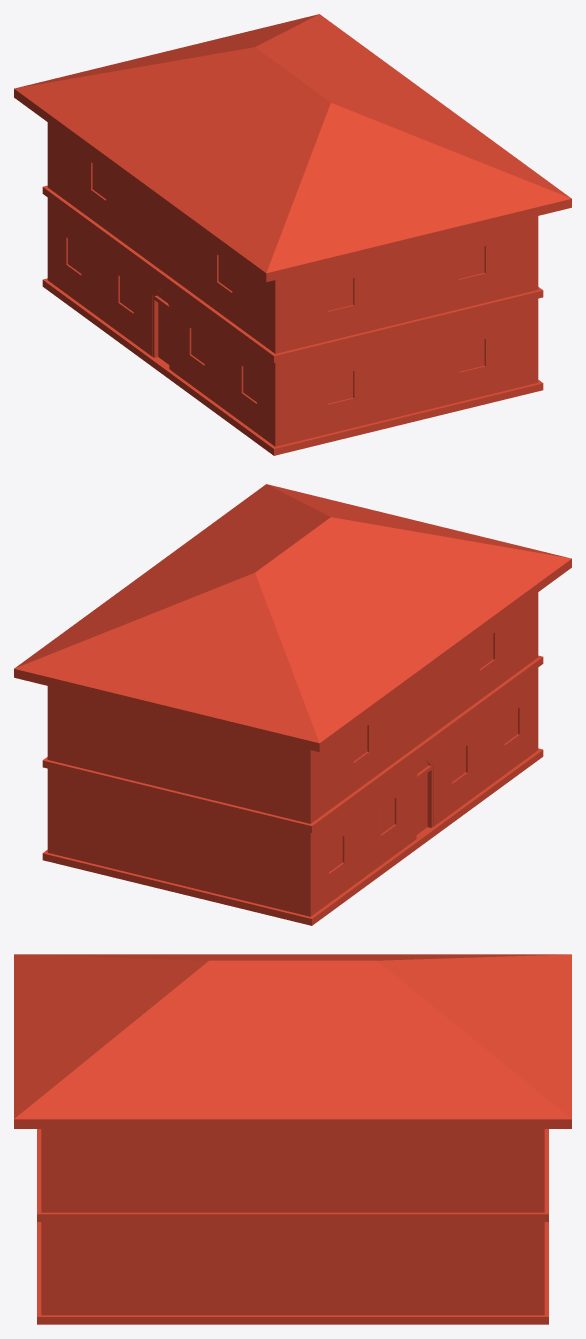
The model's file is home02.fbx.
The picture shows the model from 3 angles, top to bottom: view 1: azimuth 30°, elevation 25°; view 2: azimuth 150°, elevation 25°; view 3: azimuth 270°, elevation 25°; orthographic projection. The views are drawn at different scales.
Parts seen in each view (by area): view 1: home02; view 2: home02; view 3: home02.
Boxes of the visible parts, left/top/right/bottom form: home02: left=14, top=14, right=571, bottom=455; home02: left=14, top=484, right=571, bottom=925; home02: left=14, top=954, right=571, bottom=1324.
Bounding box in the file's own units: 930 × 766 × 1330.
